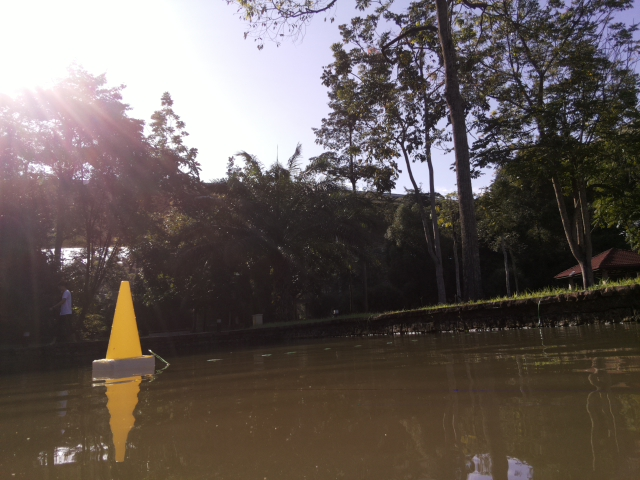checkpoint: (91, 280, 155, 378)
